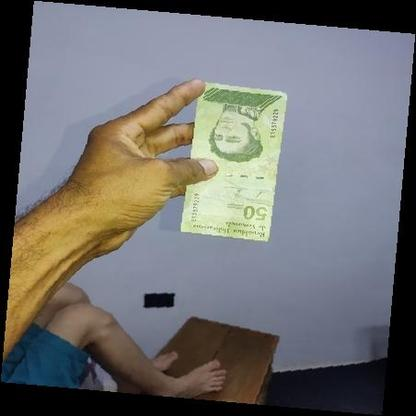fifty-front-vef: (180, 82, 287, 242)
